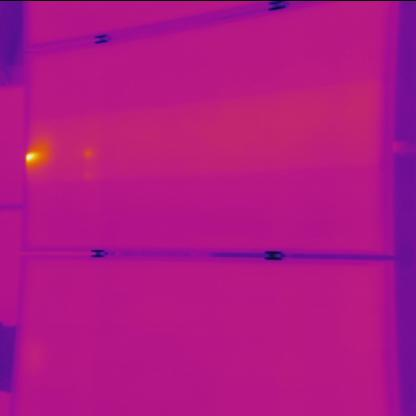hotspot: (22, 142, 50, 168)
